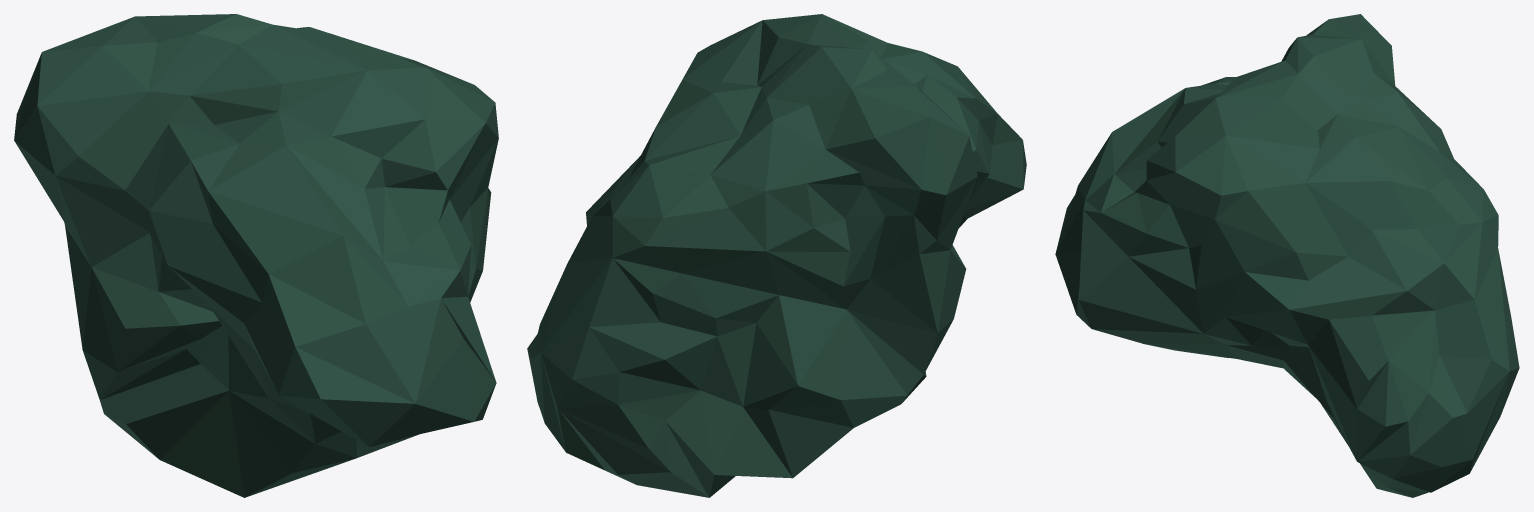
Rendered from SM_large_rock_53.fbx.
3 renders of one model, left to right at view 1: azimuth 30°, elevation 25°; view 2: azimuth 150°, elevation 25°; view 3: azimuth 270°, elevation 25°, orthographic. The views are drawn at different scales.
Parts seen in each view (by area): view 1: large_rock_53; view 2: large_rock_53; view 3: large_rock_53.
Boxes of the visible parts, x1,y1,x2,y2 form: large_rock_53: (14, 14, 498, 497); large_rock_53: (527, 14, 1026, 497); large_rock_53: (1055, 14, 1519, 497).
Bounding box in the file's own units: 99.87 × 107 × 117.
